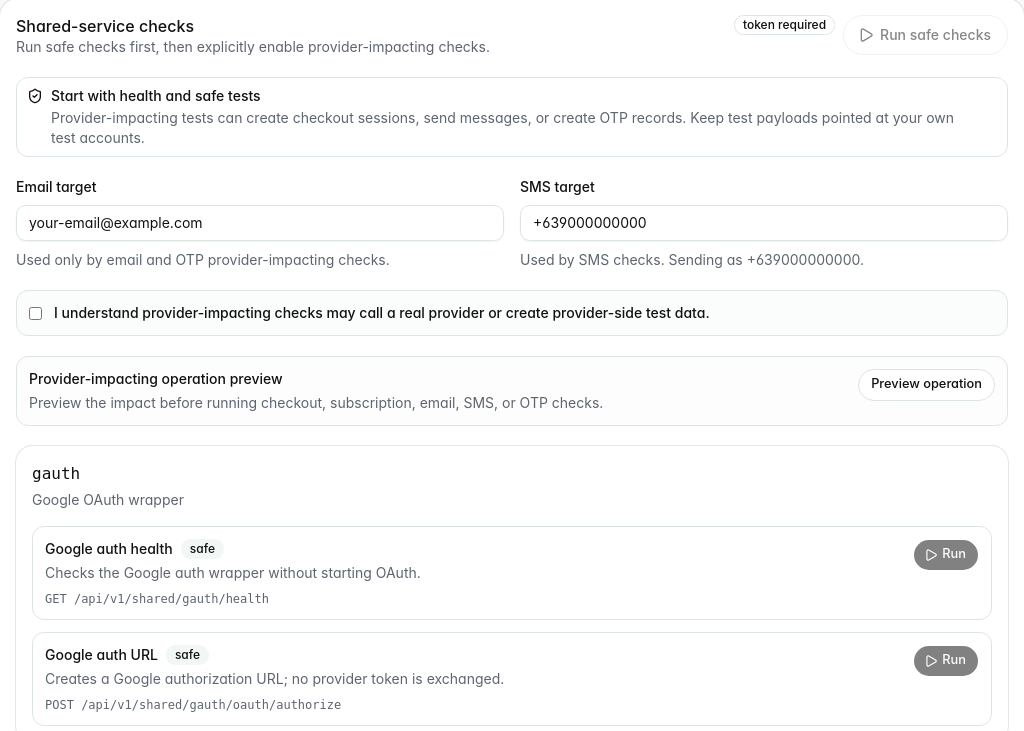
Test: SharedServiceSmokeTests › renders provider-impacting operation preview output
The width and height of the screenshot is (1024, 731).
(page scrolled)
Click the button "Preview operation".
click(927, 384)  # box x1=858 y1=368 x2=995 y2=400
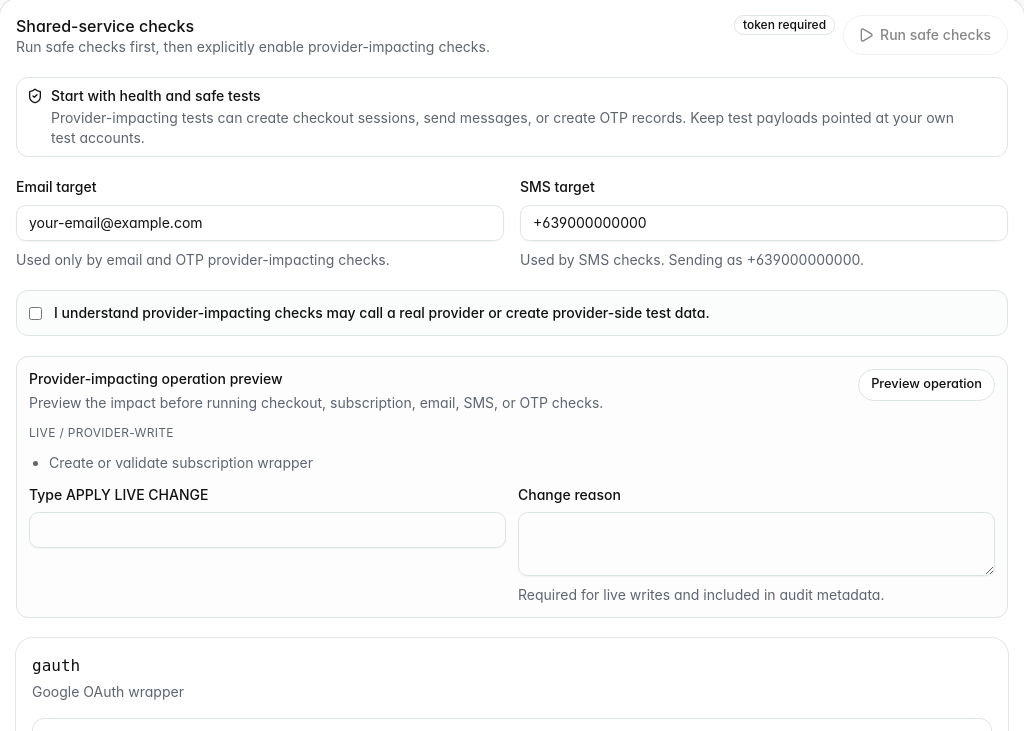
Result: the list item "Create or validate subscription wrapper" is shown at x1=49 y1=454 x2=313 y2=470
Result: the text "Type APPLY LIVE CHANGE" is shown at x1=29 y1=486 x2=208 y2=502
Result: the text "Change reason" is shown at x1=518 y1=486 x2=621 y2=502
